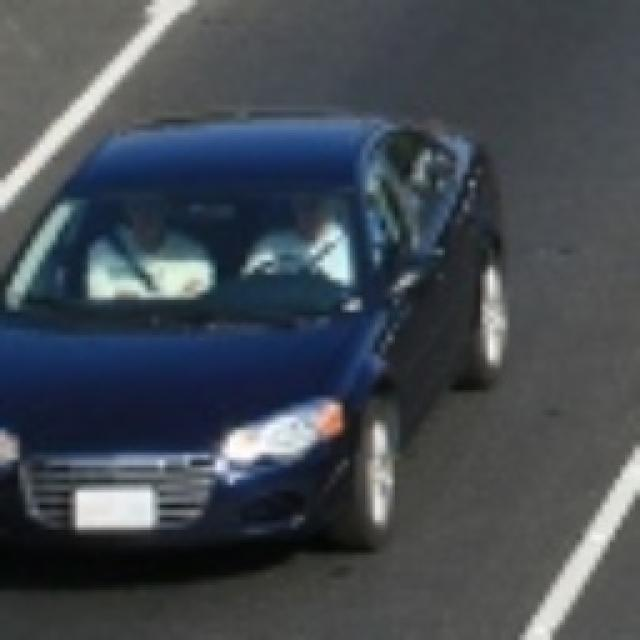windshield: (6, 178, 374, 337)
